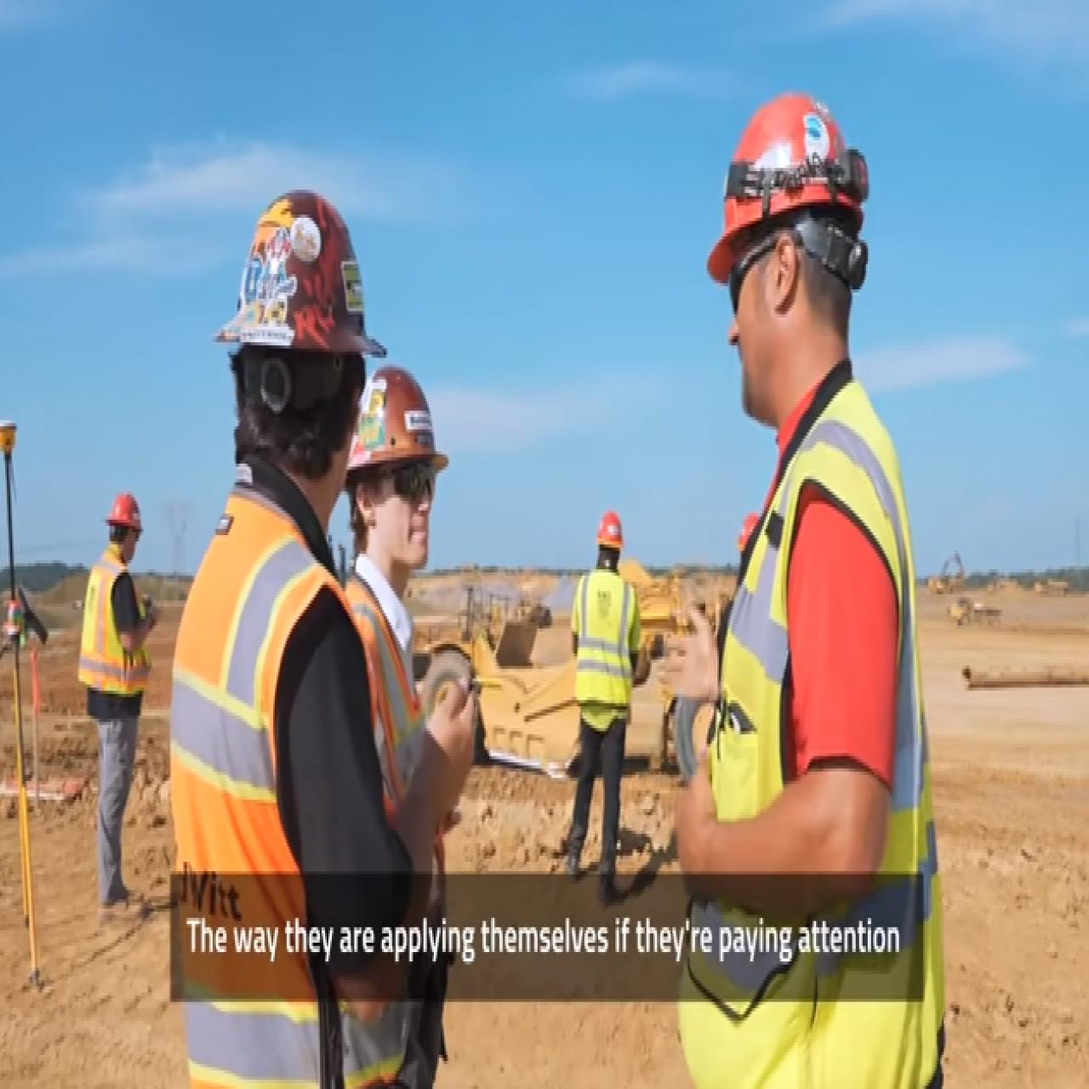Person: (646, 74, 981, 1089), (161, 164, 493, 1089), (332, 358, 469, 1075), (558, 479, 650, 905), (76, 463, 161, 915)
Safety_Vest: (686, 366, 938, 1089), (164, 485, 422, 1089), (340, 554, 444, 1077), (80, 548, 156, 714), (574, 568, 637, 730)
